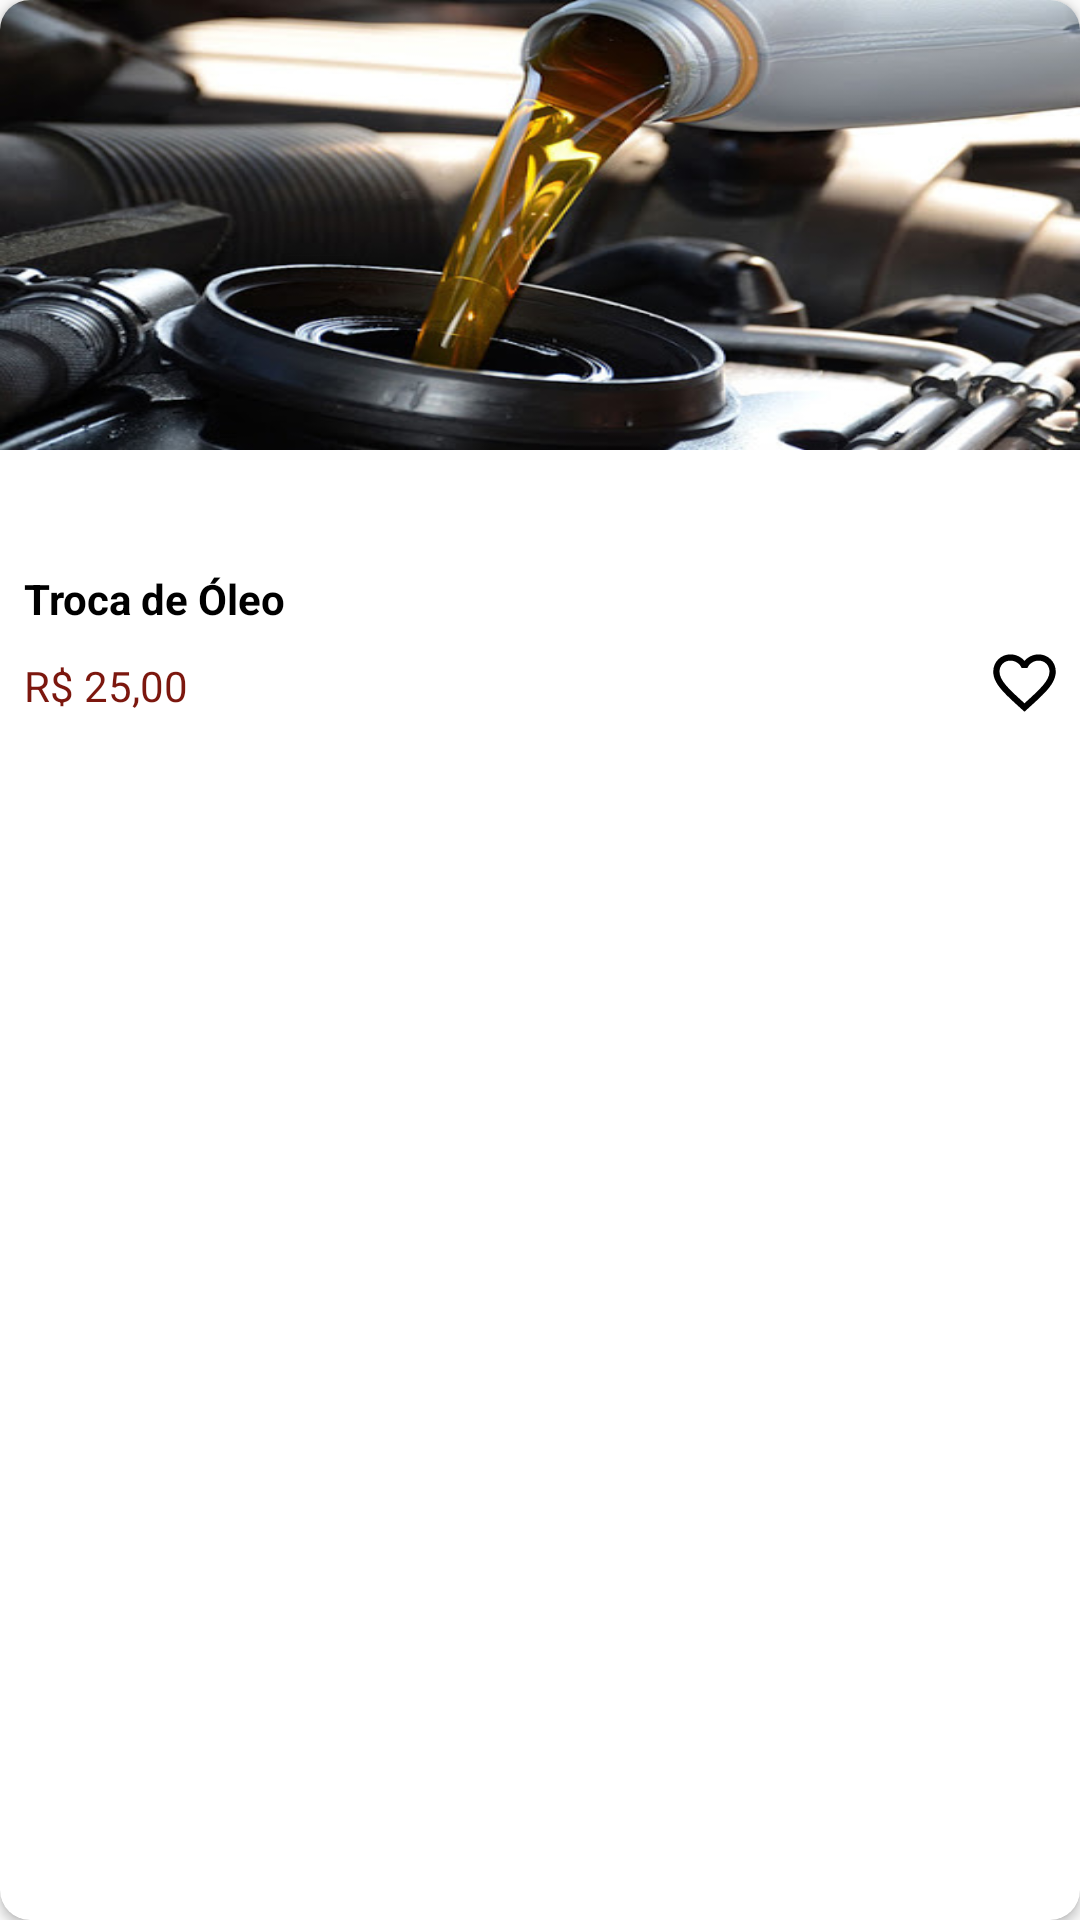

Named icons in this screenshot (1080px x 1920px) and their bounding boxes, region(x1, y1, x2, y2):
coracao: region(993, 654, 1056, 712)
